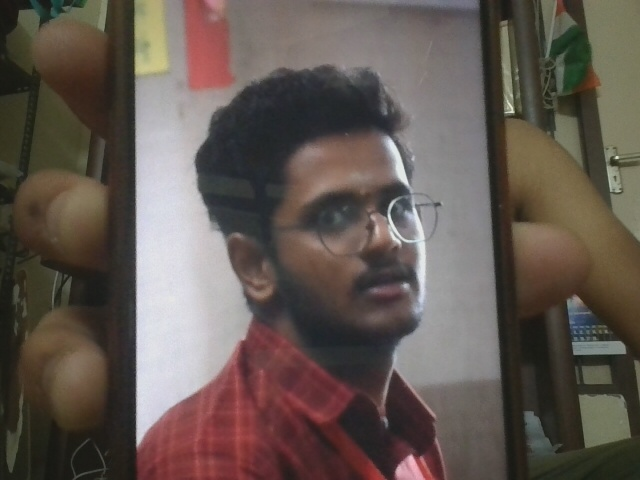fake: (269, 124, 485, 340)
